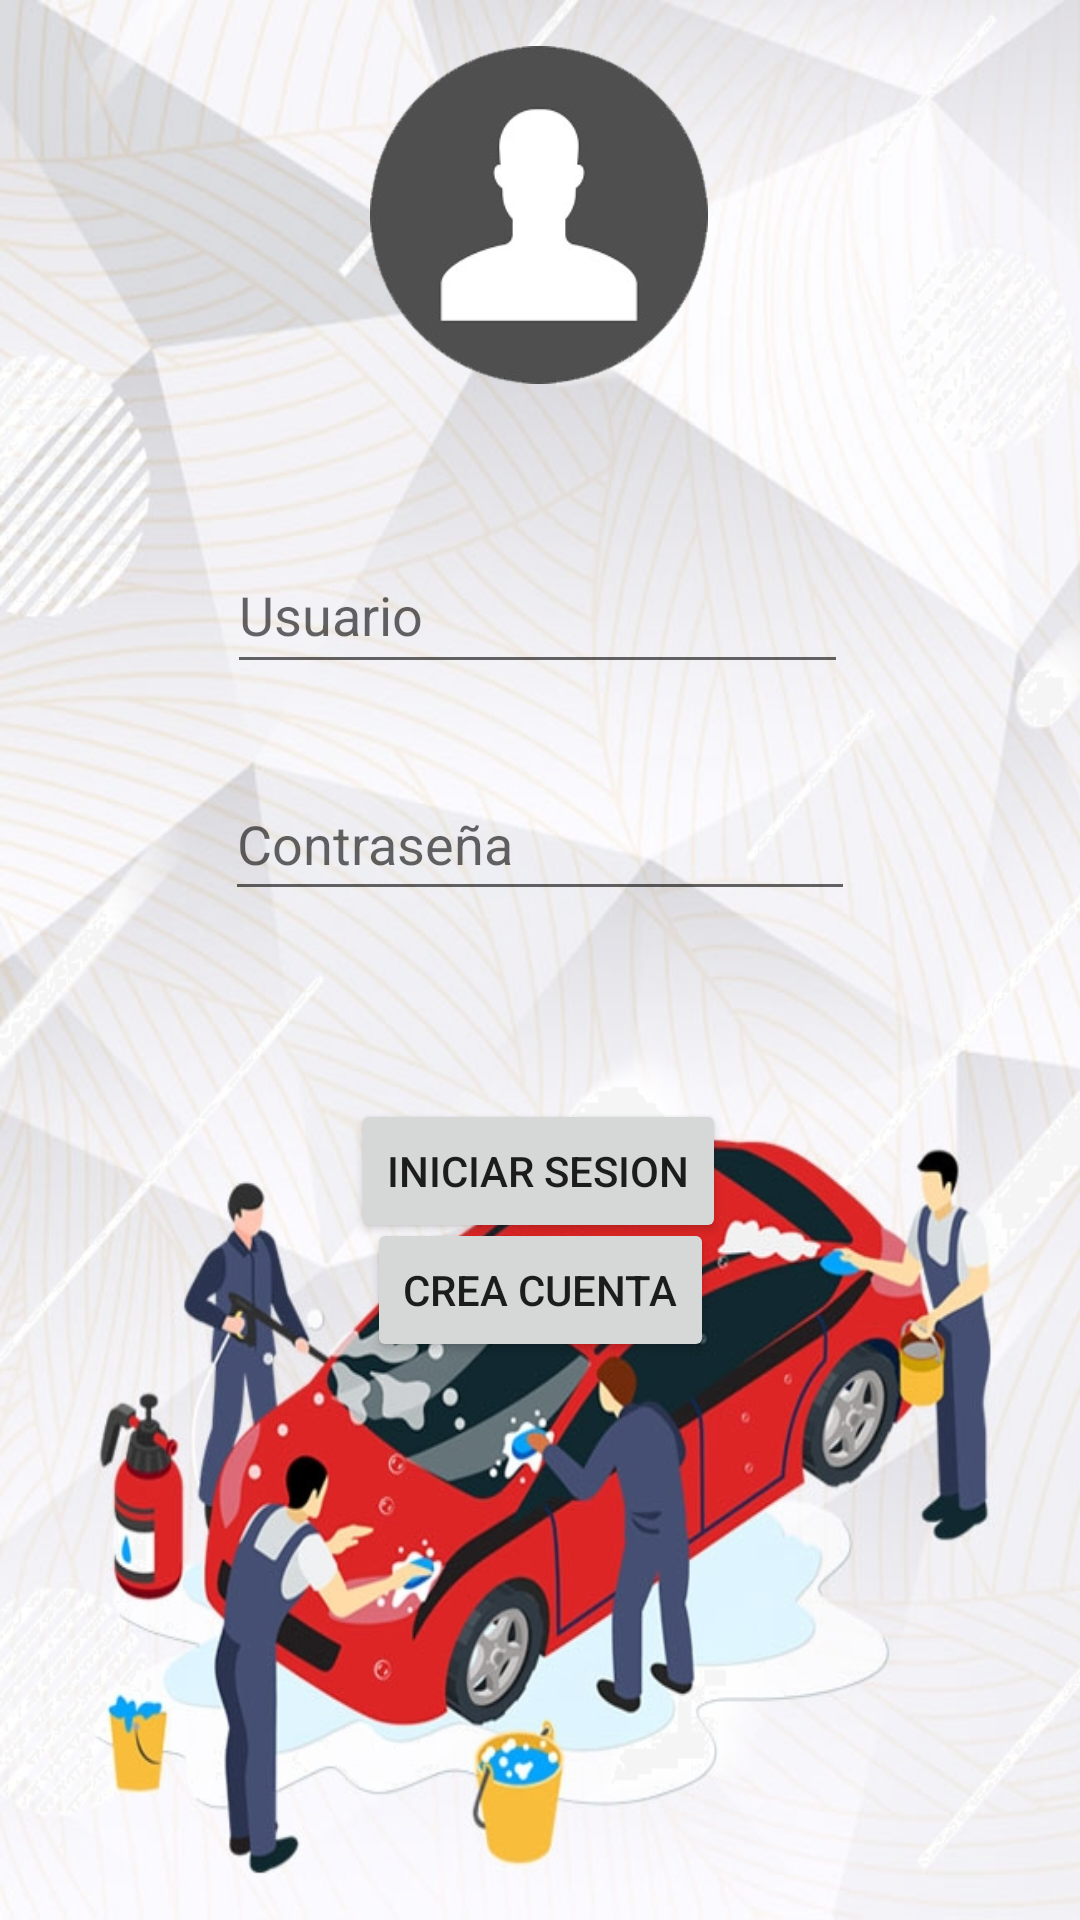

Named icons in this screenshot (1080px x 1920px) and their centers, [x,y]:
user: [539,215]
